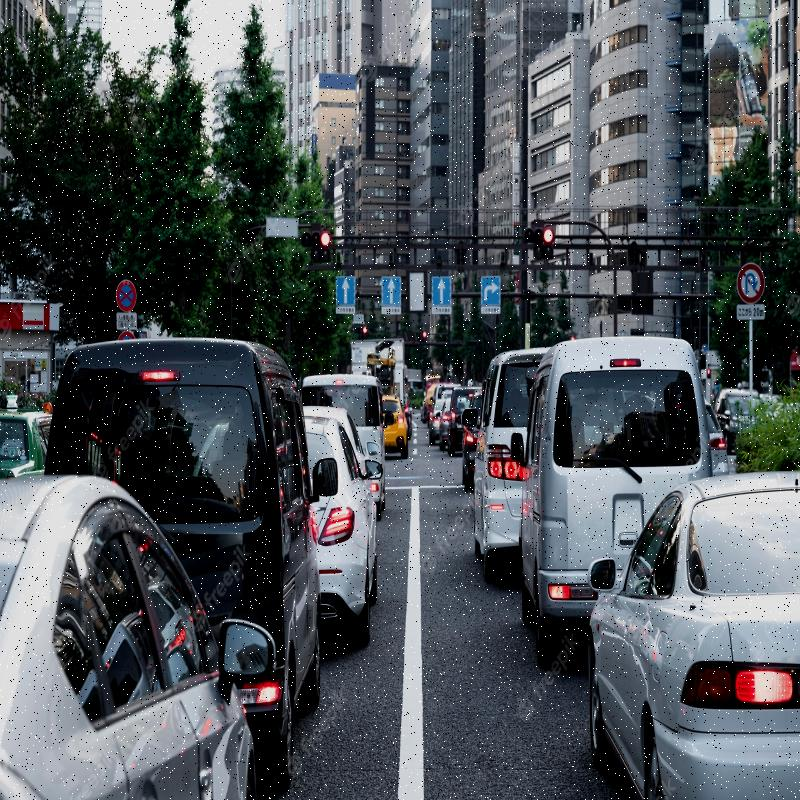car: (58, 323, 328, 799), (0, 417, 266, 799), (601, 501, 800, 800), (539, 321, 710, 644), (259, 391, 362, 663), (478, 335, 553, 573), (284, 362, 388, 526)
